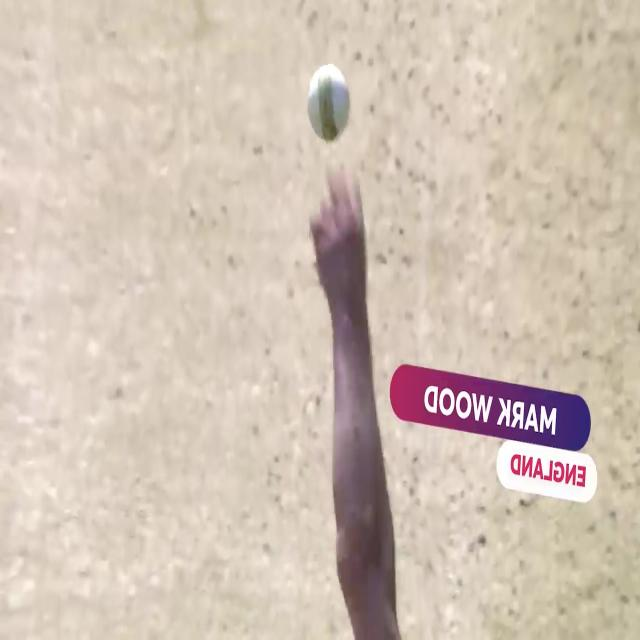ball: (305, 70, 351, 152)
